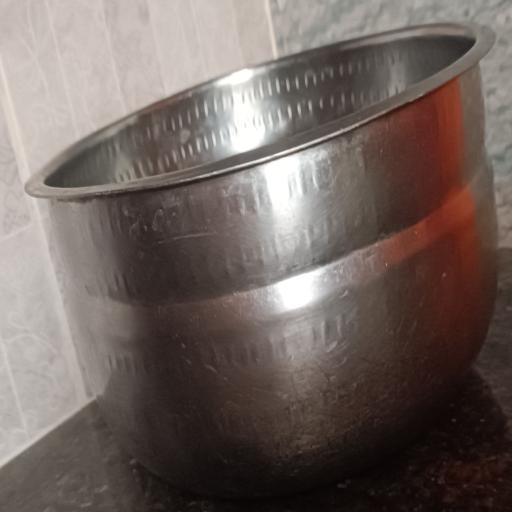vessel: (27, 24, 496, 496)
